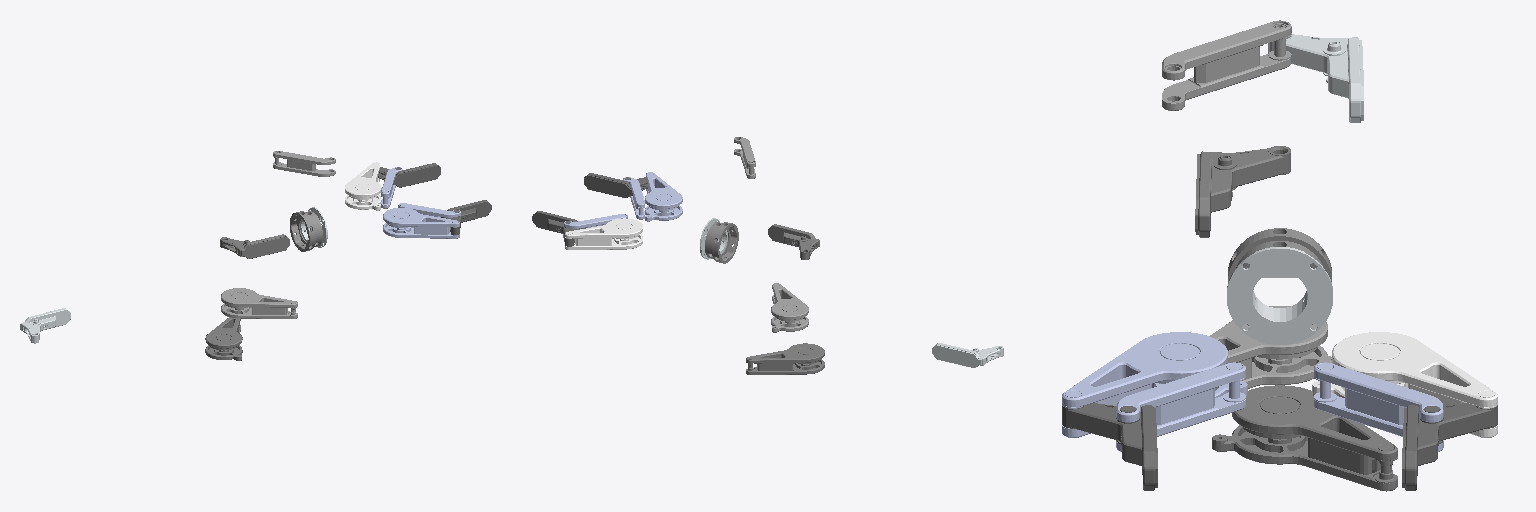
URDF robot description (L5_umi):
<?xml version="1.0" encoding="utf-8"?>
<robot name="L5_umi">
    <link name="world" />
    <joint name="world_to_base_link" type="fixed">
        <origin xyz="0 0 0" rpy="0 0 0" />
        <parent link="world" />
        <child link="base_link" />
    </joint>

    <link name="base_link">
        <inertial>
            <origin xyz="-0.00013359 6.672E-05 0.031672" rpy="0 0 0" />
            <mass value="0.42272" />
            <inertia
                ixx="0.00060728"
                ixy="3.437e-7"
                ixz="9.790e-7"
                iyy="0.00060832"
                iyz="-1.696e-6"
                izz="1.917e-4" />
        </inertial>
        <visual>
            <origin xyz="0 0 0" rpy="0 0 0" />
            <geometry>
                <mesh filename="meshes/L5_umi/arm/raw_meshes_ARM/base_link_arm.STL" />
            </geometry>
            <material name="">
                <color rgba="0.89804 0.91765 0.92941 1" />
            </material>
        </visual>
        <collision>
            <origin xyz="0 0 0" rpy="0 0 0" />
            <geometry>
                <mesh filename="meshes/L5_umi/arm/raw_meshes_ARM/base_link_arm.STL" />
            </geometry>
        </collision>
    </link>
    <link name="link1">
        <inertial>
            <origin xyz="0.005056 -0.0078534 0.020887" rpy="0 0 0" />
            <mass value="0.09728" />
            <inertia ixx="0.00011" ixy="-0.00001" ixz="0.00001" iyy="0.00005" iyz="-0.00001"
                izz="0.00010" />
        </inertial>
        <visual>
            <origin xyz="0 0 0" rpy="0 0 0" />
            <geometry>
                <mesh filename="meshes/L5_umi/arm/raw_meshes_ARM/link1.STL" />
            </geometry>
            <material name="">
                <color rgba="0.56471 0.56471 0.56471 1" />
            </material>
        </visual>
        <collision>
            <origin xyz="0 0 0" rpy="0 0 0" />
            <geometry>
                <mesh filename="meshes/L5_umi/arm/raw_meshes_ARM/link1.STL" />
            </geometry>
        </collision>
    </link>
    <joint name="joint1" type="revolute">
        <origin xyz="0 0 0.0565" rpy="0 0 0" />
        <parent link="base_link" />
        <child link="link1" />
        <axis xyz="0 0 1" />
        <limit lower="-10" upper="10" effort="100" velocity="1000" />
    </joint>
    <link name="link2">
        <inertial>
            <origin xyz="-0.12983 -0.00073729 -1.2236E-05" rpy="0 0 0" />
            <mass value="1.1477" />
            <inertia ixx="0.00057063"
                ixy="0.00011251"
                ixz="0.00001979"
                iyy="0.03669927"
                iyz="1.203e-8"
                izz="0.03683489" />
        </inertial>
        <visual>
            <origin xyz="0 0 0" rpy="0 0 0" />
            <geometry>
                <mesh filename="meshes/L5_umi/arm/raw_meshes_ARM/link2.STL" />
            </geometry>
            <material name="">
                <color rgba="0.69804 0.69804 0.69804 1" />
            </material>
        </visual>
        <collision>
            <origin xyz="0 0 0" rpy="0 0 0" />
            <geometry>
                <mesh filename="meshes/L5_umi/arm/raw_meshes_ARM/link2.STL" />
            </geometry>
        </collision>
    </link>
    <joint name="joint2" type="revolute">
        <origin xyz="0.02 0 0.047" rpy="0 0 0" />
        <parent link="link1" />
        <child link="link2" />
        <axis xyz="0 1 0" />
        <limit lower="-10" upper="10" effort="100" velocity="1000" />
    </joint>
    <link name="link3">
        <inertial>
            <origin xyz="0.15404 5.5044E-07 -0.054689" rpy="0 0 0" />
            <mass value="0.66" />
            <inertia ixx="0.00178249"
                ixy="-0.00003986"
                ixz="0.00571"
                iyy="0.02486615"
                iyz="1.346e-5"
                izz="0.02329476" />
        </inertial>
        <visual>
            <origin xyz="0 0 0" rpy="0 0 0" />
            <geometry>
                <mesh filename="meshes/L5_umi/arm/raw_meshes_ARM/link3.STL" />
            </geometry>
            <material name="">
                <color rgba="0.89804 0.91765 0.92941 1" />
            </material>
        </visual>
        <collision>
            <origin xyz="0 0 0" rpy="0 0 0" />
            <geometry>
                <mesh filename="meshes/L5_umi/arm/raw_meshes_ARM/link3.STL" />
            </geometry>
        </collision>
    </link>
    <joint name="joint3" type="revolute">
        <origin xyz="-0.264 0 0" rpy="3.1416 0 0" />
        <parent link="link2" />
        <child link="link3" />
        <axis xyz="0 1 0" />
        <limit lower="-10" upper="10" effort="100" velocity="1000" />
    </joint>
    <link name="link4">
        <inertial>
            <origin xyz="0.040231 0.0039307 -0.035335" rpy="0 0 0" />
            <mass value="0.11714" />
            <inertia ixx="0.00017832"
                ixy="0.00001697"
                ixz="0.0000776"
                iyy="0.00021182"
                iyz="-0.00001779"
                izz="0.00011328" />
        </inertial>
        <visual>
            <origin xyz="0 0 0" rpy="0 0 0" />
            <geometry>
                <mesh filename="meshes/L5_umi/arm/raw_meshes_ARM/link4.STL" />
            </geometry>
            <material name="">
                <color rgba="0.56471 0.56471 0.56471 1" />
            </material>
        </visual>
        <collision>
            <origin xyz="0 0 0" rpy="0 0 0" />
            <geometry>
                <mesh filename="meshes/L5_umi/arm/raw_meshes_ARM/link4.STL" />
            </geometry>
        </collision>
    </link>
    <joint name="joint4" type="revolute">
        <origin xyz="0.245 0 -0.06" rpy="0 0 0" />
        <parent link="link3" />
        <child link="link4" />
        <axis xyz="0 1 0" />
        <limit lower="-10" upper="10" effort="100" velocity="1000" />
    </joint>
    <link name="link5">
        <inertial>
            <origin xyz="0.0036004 -1.5445E-05 0.055255" rpy="0 0 0" />
            <mass value="0.6353" />
            <inertia ixx="0.00254972"
                ixy="2.600e-7"
                ixz="-0.00021534"
                iyy="0.00255018"
                iyz="-5.980e-7"
                izz="0.00026961" />
        </inertial>
        <visual>
            <origin xyz="0 0 0" rpy="0 0 0" />
            <geometry>
                <mesh filename="meshes/L5_umi/arm/raw_meshes_ARM/link5.STL" />
            </geometry>
            <material name="">
                <color rgba="0.69804 0.69804 0.69804 1" />
            </material>
        </visual>
        <collision>
            <origin xyz="0 0 0" rpy="0 0 0" />
            <geometry>
                <mesh filename="meshes/L5_umi/arm/raw_meshes_ARM/link5.STL" />
            </geometry>
        </collision>
    </link>
    <joint name="joint5" type="revolute">
        <origin xyz="0.06775 -5E-05 -0.0865" rpy="0 0 0" />
        <parent link="link4" />
        <child link="link5" />
        <axis xyz="0 0 1" />
        <limit lower="-10" upper="10" effort="100" velocity="1000" />
    </joint>
    <link name="link6">
        <inertial>
            <origin xyz="0.050676 -4.9137E-05 5.123E-05" rpy="0 0 0" />
            <mass value="0.902" />
            <inertia ixx="0.00029" ixy="0.00000" ixz="0.00000" iyy="0.00028" iyz="-0.00001"
                izz="0.00045" />
        </inertial>
        <visual>
            <origin xyz="0 -0.0225 -0.0225" rpy="1.5707963 0 1.5707963" />
            <geometry>
                <mesh filename="meshes/DAS_Controller_v3_r5_end_adapter_flange.STL" scale="0.001 0.001 0.001" />
            </geometry>
            <material name="">
                <color rgba="0.62 0.62 0.62 1" />
            </material>
        </visual>
        <collision>
            <origin xyz="0 -0.0225 -0.0225" rpy="1.5707963 0 1.5707963" />
            <geometry>
                <mesh filename="meshes/DAS_Controller_v3_r5_end_adapter_flange.STL" scale="0.001 0.001 0.001" />
            </geometry>
        </collision>
        <visual>
            <origin xyz="0.0091 0 0" rpy="0 0 0" />
            <geometry>
                <mesh filename="meshes/L5_umi/umi/link_Flange.STL" />
            </geometry>
            <material name="">
                <color rgba="0.89804 0.91765 0.92941 1" />
            </material>
        </visual>
        <collision>
            <origin xyz="0.0091 0 0" rpy="0 0 0" />
            <geometry>
                <mesh filename="meshes/L5_umi/umi/link_Flange.STL" />
            </geometry>
        </collision>
        <visual>
            <origin xyz="0.0999414 0.0000388 0.0767217" rpy="0 0.2618 0" />
            <geometry>
                <mesh filename="meshes/L5_umi/umi/base_link.STL" />
            </geometry>
            <material name="">
                <color rgba="1 1 1 1" />
            </material>
        </visual>
        <collision>
            <origin xyz="0.0999414 0.0000388 0.0767217" rpy="0 0.2618 0" />
            <geometry>
                <mesh filename="meshes/L5_umi/umi/base_link.STL" />
            </geometry>
        </collision>
        <visual>
            <origin xyz="0.1066203 0.0429998 0.0136096" rpy="0 0 0" />
            <geometry>
                <mesh filename="meshes/L5_umi/umi/link1.STL" />
            </geometry>
            <material name="">
                <color rgba="1 1 1 1" />
            </material>
        </visual>
        <collision>
            <origin xyz="0.1066203 0.0429998 0.0136096" rpy="0 0 0" />
            <geometry>
                <mesh filename="meshes/L5_umi/umi/link1.STL" />
            </geometry>
        </collision>
        <visual>
            <origin xyz="0.1498023 0.0887898 0.0136095" rpy="0 0 0" />
            <geometry>
                <mesh filename="meshes/L5_umi/umi/link3.STL" />
            </geometry>
            <material name="">
                <color rgba="0.498039 0.498039 0.498039 1" />
            </material>
        </visual>
        <collision>
            <origin xyz="0.1498023 0.0887898 0.0136095" rpy="0 0 0" />
            <geometry>
                <mesh filename="meshes/L5_umi/umi/link3.STL" />
            </geometry>
        </collision>
        <visual>
            <origin xyz="0.1066203 -0.0430002 0.0136096" rpy="0 0 0" />
            <geometry>
                <mesh filename="meshes/L5_umi/umi/link2.STL" />
            </geometry>
            <material name="">
                <color rgba="0.792157 0.819608 0.933333 1" />
            </material>
        </visual>
        <collision>
            <origin xyz="0.1066203 -0.0430002 0.0136096" rpy="0 0 0" />
            <geometry>
                <mesh filename="meshes/L5_umi/umi/link2.STL" />
            </geometry>
        </collision>
        <visual>
            <origin xyz="0.1498023 -0.0887902 0.0136095" rpy="0 0 0" />
            <geometry>
                <mesh filename="meshes/L5_umi/umi/link4.STL" />
            </geometry>
            <material name="">
                <color rgba="0.498039 0.498039 0.498039 1" />
            </material>
        </visual>
        <collision>
            <origin xyz="0.1498023 -0.0887902 0.0136095" rpy="0 0 0" />
            <geometry>
                <mesh filename="meshes/L5_umi/umi/link4.STL" />
            </geometry>
        </collision>
        <visual>
            <origin xyz="0.1218700 0.0195168 0.0136097" rpy="0 0 0" />
            <geometry>
                <mesh filename="meshes/L5_umi/umi/link5.STL" />
            </geometry>
            <material name="">
                <color rgba="0.796078 0.823529 0.937255 1" />
            </material>
        </visual>
        <collision>
            <origin xyz="0.1218700 0.0195168 0.0136097" rpy="0 0 0" />
            <geometry>
                <mesh filename="meshes/L5_umi/umi/link5.STL" />
            </geometry>
        </collision>
        <visual>
            <origin xyz="0.1218700 -0.0195172 0.0136097" rpy="0 0 0" />
            <geometry>
                <mesh filename="meshes/L5_umi/umi/link6.STL" />
            </geometry>
            <material name="">
                <color rgba="0.796078 0.823529 0.937255 1" />
            </material>
        </visual>
        <collision>
            <origin xyz="0.1218700 -0.0195172 0.0136097" rpy="0 0 0" />
            <geometry>
                <mesh filename="meshes/L5_umi/umi/link6.STL" />
            </geometry>
        </collision>
    </link>
    <joint name="joint6" type="revolute">
        <origin xyz="0.02895 0 0.0865" rpy="3.1416 0 0" />
        <parent link="link5" />
        <child link="link6" />
        <axis xyz="1 0 0" />
        <limit lower="-10" upper="10" effort="100" velocity="1000" />
    </joint>

    <link name="eef_link">
        <inertial>
            <mass value="0.0" />
            <origin xyz="0.0 0.0 0.0" rpy="0 0 0" />
            <inertia ixx="0.0" ixy="0.0" ixz="0.0" iyy="0.0" iyz="0.0" izz="0.0" />
        </inertial>
    </link>

    <joint name="gripper_fixed_joint" type="fixed">
        <origin xyz="0.0999414 0.0000388 0.0767217" rpy="0 0.2618 0" />
        <parent link="link6" />
        <child link="eef_link" />
    </joint>
</robot>

--- Render facts (derived) ---
3 views of the same robot in one strip: view 1: azimuth 30°, elevation 25°; view 2: azimuth 150°, elevation 25°; view 3: azimuth 270°, elevation 25° (orthographic).
Model L5_umi with 9 links and 8 joints (6 revolute, 2 fixed), rooted at world, posed every joint at zero.
Links seen in each view (by area): view 1: link6, link2, link1, link4, link5, link3; view 2: link6, link1, link2, link3, link4, link5; view 3: link6, link1, link5, link2, link4, link3.
Link boxes in pixels (<box>): link6: <box>290,162,491,251</box>; link2: <box>221,288,297,318</box>; link1: <box>205,317,242,360</box>; link4: <box>220,234,289,258</box>; link5: <box>273,151,335,176</box>; link3: <box>20,308,70,343</box>; link6: <box>532,172,738,263</box>; link1: <box>746,343,824,374</box>; link2: <box>771,283,808,332</box>; link3: <box>932,343,1003,367</box>; link4: <box>768,224,819,259</box>; link5: <box>734,137,755,178</box>; link6: <box>1062,228,1497,490</box>; link1: <box>1212,385,1397,491</box>; link5: <box>1162,20,1291,110</box>; link2: <box>1210,306,1332,388</box>; link4: <box>1195,146,1290,237</box>; link3: <box>1268,34,1363,122</box>.
Size in the robot's own frame: 0.5607 by 0.1876 by 0.2314 metres.
Meshes: 15 distinct files referenced, 13 mesh visuals loaded (8 binary STL); not drawn: 2 (reference not matched to a file when rendering).
